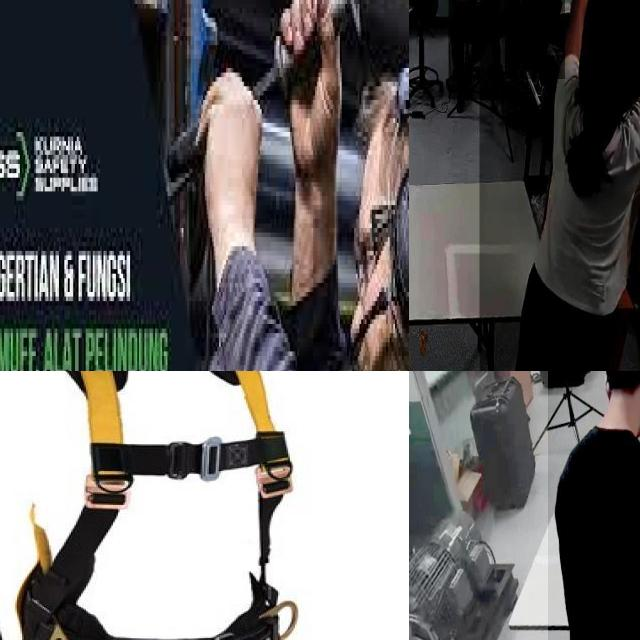Ear-protection: (380, 52, 409, 349)
Harness: (18, 371, 297, 640)
hand_noglove: (455, 0, 468, 3)
head_nohelmet: (579, 0, 640, 60)
person: (479, 0, 640, 371), (548, 371, 640, 640), (448, 0, 499, 100), (505, 0, 565, 78)
